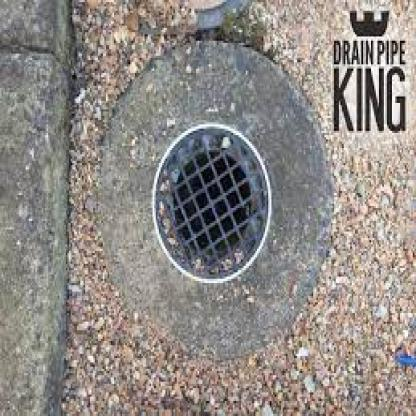closed manhole-not overflowing-: (152, 129, 274, 285)
